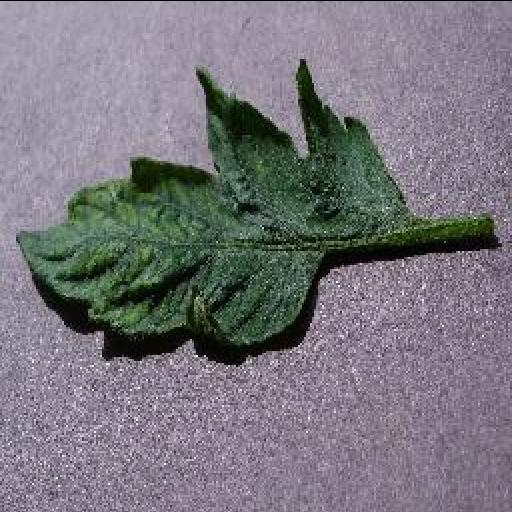Mosaic Virus: (12, 58, 420, 356)
